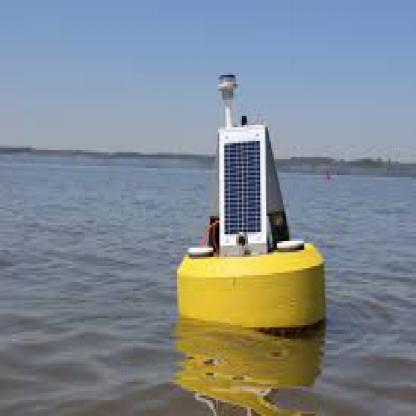buoy: (171, 66, 333, 345)
